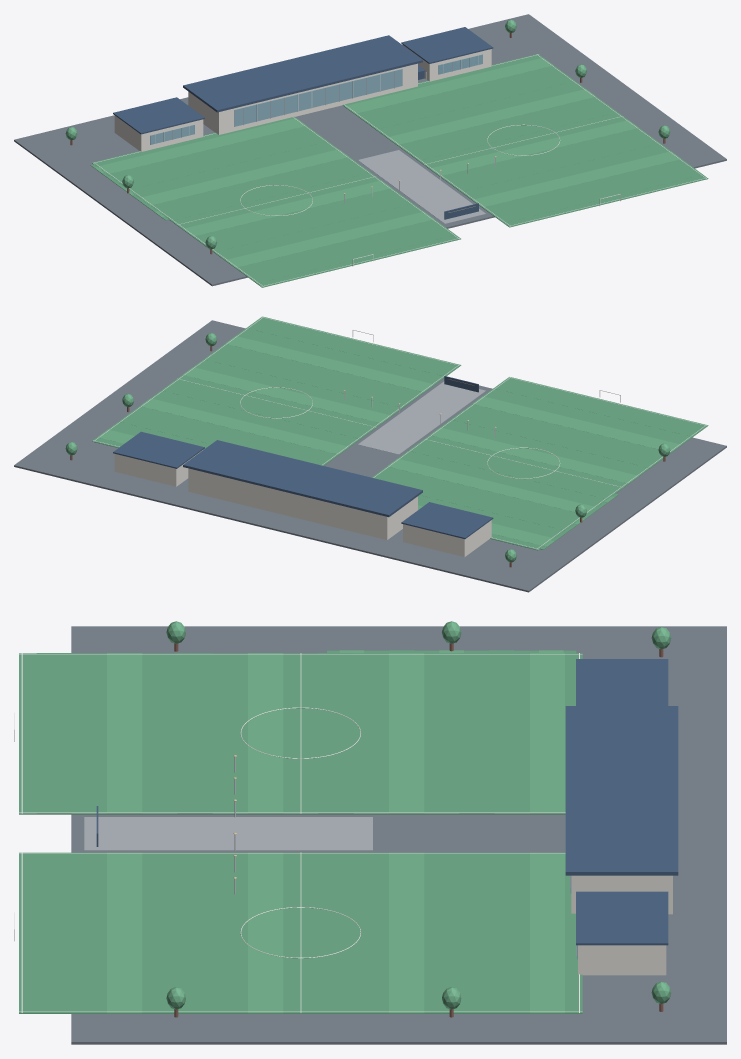
File: gtex_performance_campus.glb
3 renders of one model, top to bottom at view 1: azimuth 30°, elevation 25°; view 2: azimuth 150°, elevation 25°; view 3: azimuth 270°, elevation 25°, orthographic. The views are drawn at different scales.
Parts seen in each view (by area): view 1: Campus_Ground_Plate, First_Team_Pitch_Base, Academy_Pitch_Base, Performance_Centre_Roof, Main_Entry_Drive, Glass_Front_Facade, Performance_Centre_Main, First_Team_Mow_Stripe_2, Academy_Mow_Stripe_8, Academy_Mow_Stripe_1, Academy_Mow_Stripe_3, First_Team_Mow_Stripe_6 (+17 smaller); view 2: Campus_Ground_Plate, Academy_Pitch_Base, First_Team_Pitch_Base, Performance_Centre_Roof, Performance_Centre_Main, Main_Entry_Drive, First_Team_Mow_Stripe_7, Academy_Mow_Stripe_4, Academy_Mow_Stripe_8, First_Team_Mow_Stripe_3, First_Team_Mow_Stripe_4, First_Team_Mow_Stripe_8 (+13 smaller); view 3: Campus_Ground_Plate, First_Team_Pitch_Base, Academy_Pitch_Base, Performance_Centre_Roof, Main_Entry_Drive, First_Team_Mow_Stripe_4, First_Team_Mow_Stripe_3, First_Team_Mow_Stripe_7, First_Team_Mow_Stripe_8, First_Team_Mow_Stripe_5, First_Team_Mow_Stripe_2, Academy_Mow_Stripe_2 (+13 smaller).
Boxes of the visible parts, x1,y1,x2,y2 form: Campus_Ground_Plate: (14,14,726,286); First_Team_Pitch_Base: (342,54,708,227); Academy_Pitch_Base: (92,116,460,287); Performance_Centre_Roof: (183,35,422,112); Main_Entry_Drive: (358,150,485,223); Glass_Front_Facade: (234,69,402,126); Performance_Centre_Main: (188,63,417,134); First_Team_Mow_Stripe_2: (366,73,574,129); Academy_Mow_Stripe_8: (246,227,455,283); Academy_Mow_Stripe_1: (97,118,306,174); Academy_Mow_Stripe_3: (140,149,348,205); First_Team_Mow_Stripe_6: (451,135,660,191); Campus_Ground_Plate: (14,320,726,592); Academy_Pitch_Base: (376,377,708,550); First_Team_Pitch_Base: (92,316,461,465); Performance_Centre_Roof: (183,440,422,517); Performance_Centre_Main: (188,468,417,539); Main_Entry_Drive: (358,381,485,454); First_Team_Mow_Stripe_7: (225,336,434,391); Academy_Mow_Stripe_4: (408,443,617,499); Academy_Mow_Stripe_8: (493,380,702,436); First_Team_Mow_Stripe_3: (140,398,349,454); First_Team_Mow_Stripe_4: (161,383,370,438); First_Team_Mow_Stripe_8: (246,320,455,375); Campus_Ground_Plate: (71,626,726,1044); First_Team_Pitch_Base: (19,852,582,1013); Academy_Pitch_Base: (19,653,582,814); Performance_Centre_Roof: (565,706,678,875); Main_Entry_Drive: (84,817,372,850); First_Team_Mow_Stripe_4: (318,852,353,1013); First_Team_Mow_Stripe_3: (389,852,424,1013); First_Team_Mow_Stripe_7: (107,852,142,1013); First_Team_Mow_Stripe_8: (36,852,71,1013); First_Team_Mow_Stripe_5: (248,852,283,1013); First_Team_Mow_Stripe_2: (459,852,494,1013); Academy_Mow_Stripe_2: (459,653,494,813).
Size of the model in its own units: 150 by 8.06 by 109.
